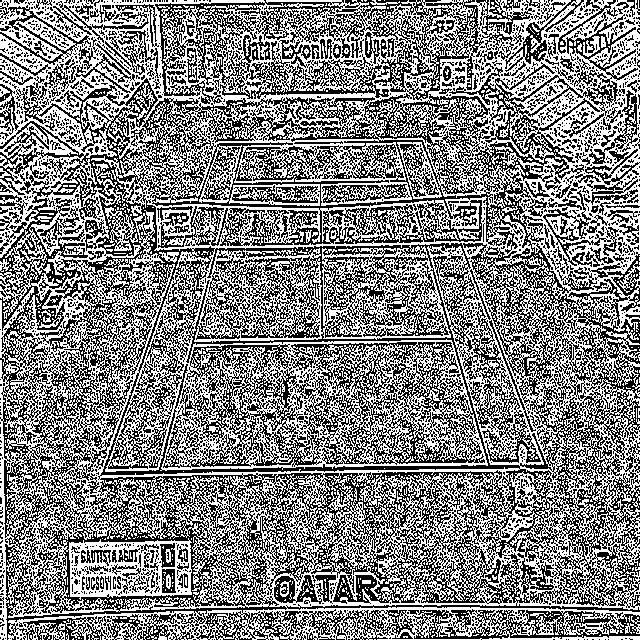left side: (396, 139, 547, 468), (102, 142, 243, 474)
player: (486, 441, 544, 586), (282, 94, 304, 142)
